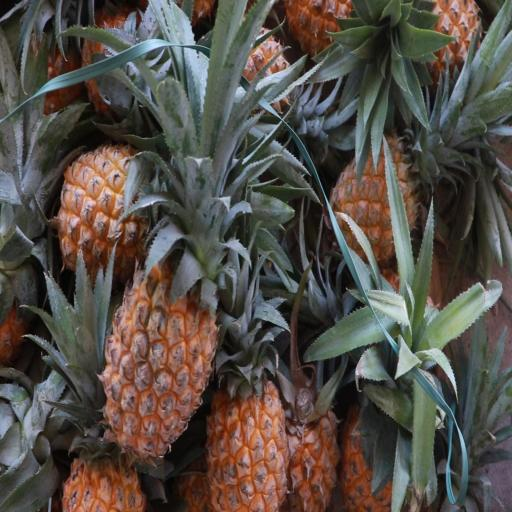Pineapple - v8 v1: (98, 224, 226, 468), (50, 130, 188, 290), (326, 124, 424, 278), (60, 366, 150, 512), (201, 367, 289, 512), (288, 371, 342, 510)
